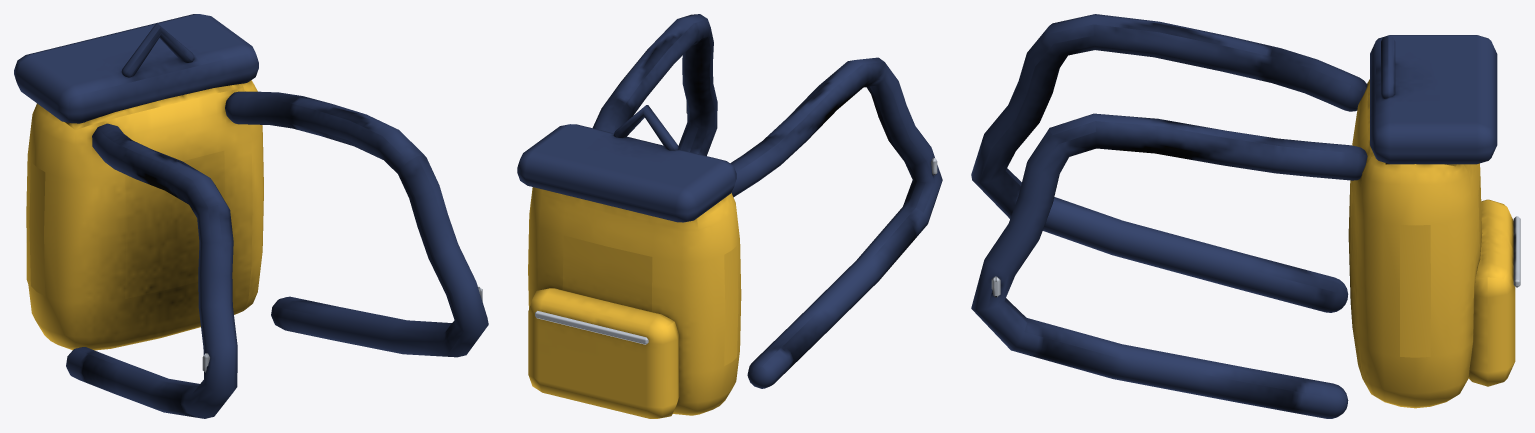
Rendered from backpack.glb.
3 views of the same model, side by side, from view 1: azimuth 30°, elevation 25°; view 2: azimuth 150°, elevation 25°; view 3: azimuth 270°, elevation 25° (orthographic). The views are drawn at different scales.
Parts seen in each view (by area): view 1: backpack; view 2: backpack; view 3: backpack.
Part boxes in pixels (x1,y1,x2,y2): backpack: (14, 14, 488, 418); backpack: (517, 14, 942, 418); backpack: (971, 14, 1520, 418).
Size of the model in its own units: 0.3805 by 0.4116 by 0.6051.
3 materials, 3 textured.
